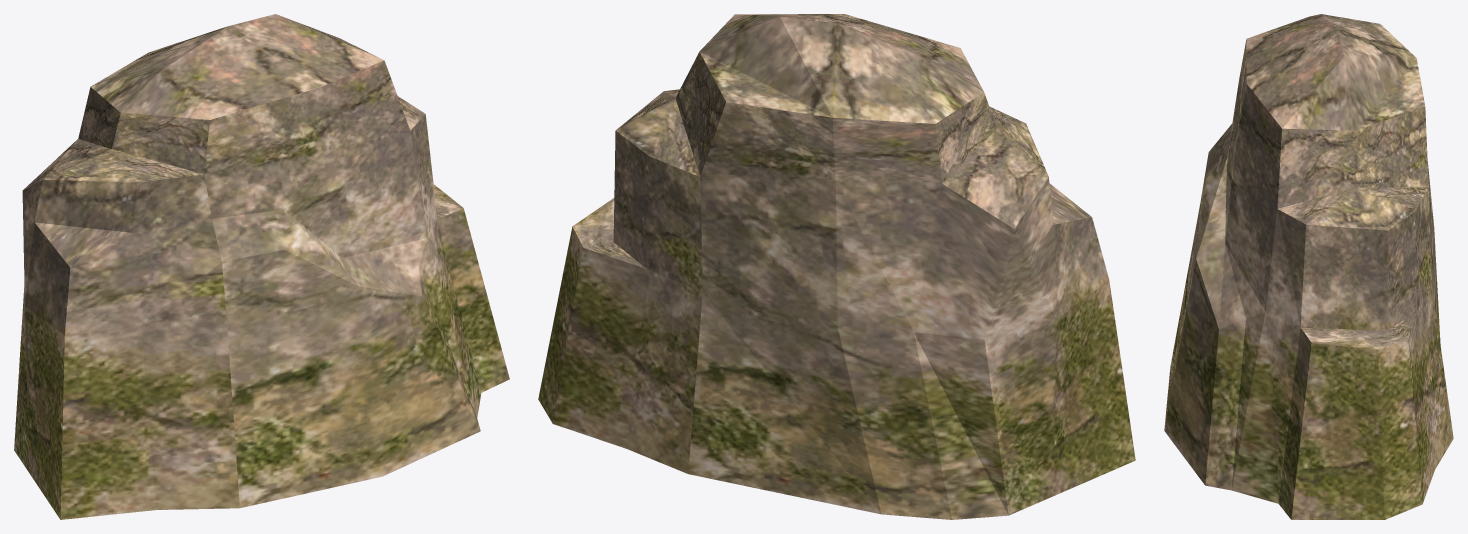
File: town_mountain_a__11___1_23.fbx
3 views of the same model, side by side, from view 1: azimuth 30°, elevation 25°; view 2: azimuth 150°, elevation 25°; view 3: azimuth 270°, elevation 25° (orthographic). The views are drawn at different scales.
Parts seen in each view (by area): view 1: town_mountain_a__11___1_23; view 2: town_mountain_a__11___1_23; view 3: town_mountain_a__11___1_23.
Boxes of the visible parts, x1,y1,x2,y2 form: town_mountain_a__11___1_23: (14,14,509,519); town_mountain_a__11___1_23: (538,14,1135,519); town_mountain_a__11___1_23: (1164,14,1453,519).
Size of the model in its own units: 39.45 by 31.17 by 21.95.
